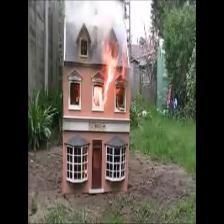fire: (102, 39, 118, 106)
